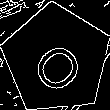O_NE: (24, 26, 89, 93)
